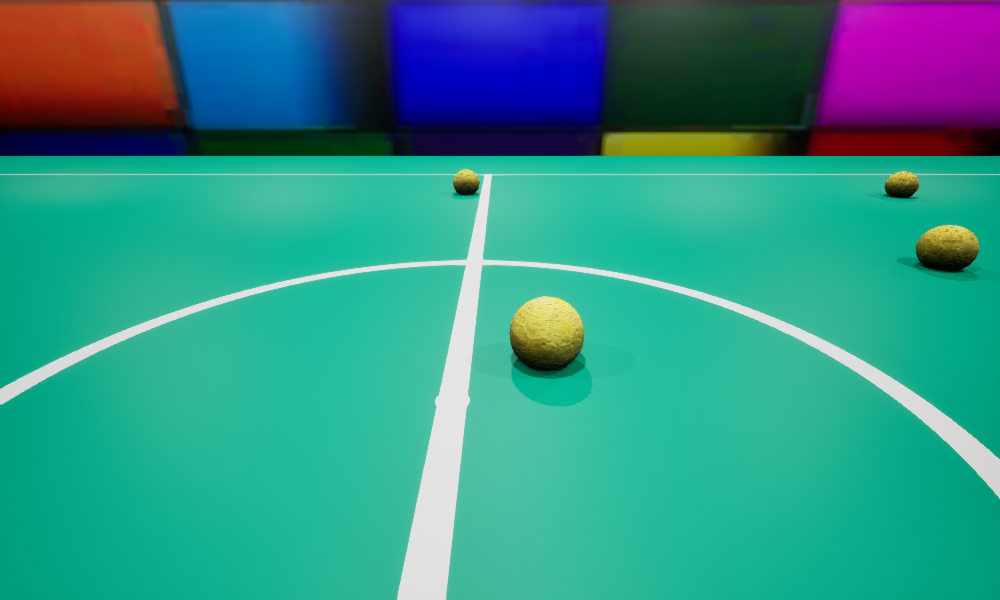b: (509, 296, 583, 369), (916, 225, 978, 270), (884, 171, 918, 197), (453, 169, 479, 194)
